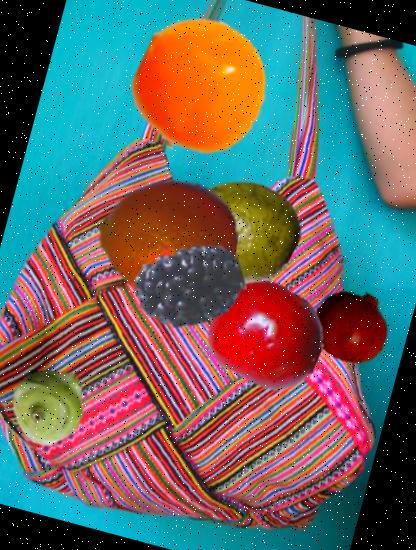Cherry: (194, 263, 336, 405)
Guava: (172, 160, 312, 300)
Huckleberry: (172, 52, 264, 145)
Kohlrabi: (3, 357, 99, 453)
Mulberry: (122, 220, 256, 355)
Physalis: (116, 3, 284, 172)
Pomegranate: (305, 280, 399, 374)
Tangelo: (82, 152, 252, 324)
